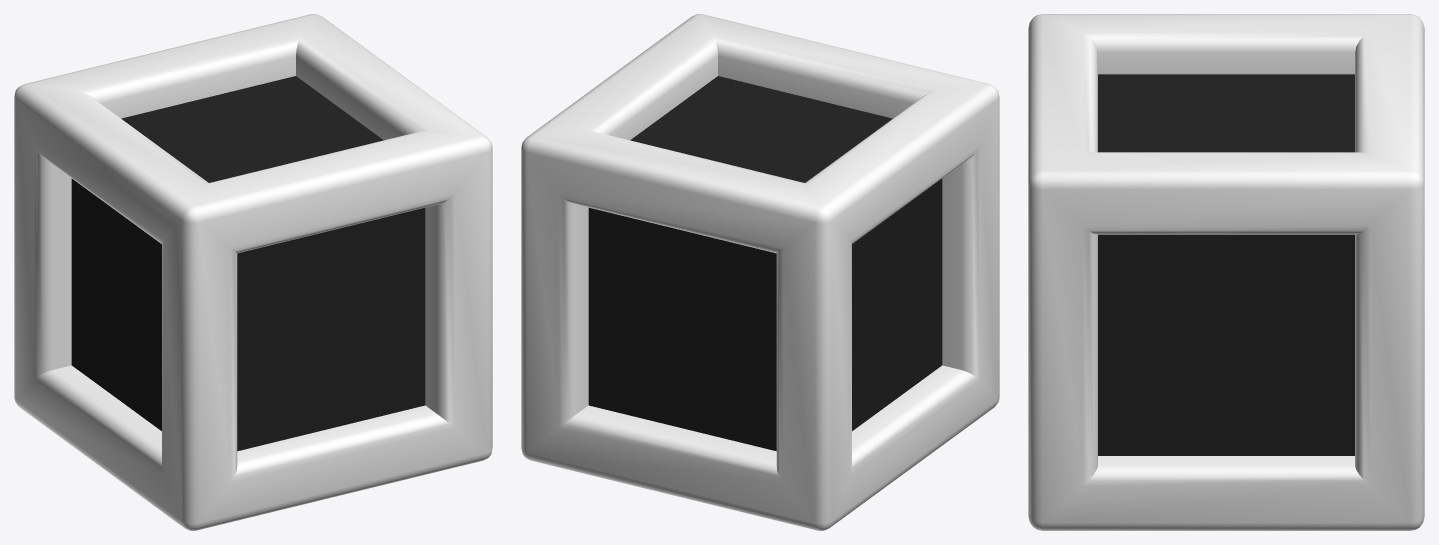
Rendered from white_square_button.gltf.
3 views of the same model, side by side, from view 1: azimuth 30°, elevation 25°; view 2: azimuth 150°, elevation 25°; view 3: azimuth 270°, elevation 25° (orthographic). The views are drawn at different scales.
Visible parts, largest first — view 1: brown_square.009; view 2: brown_square.009; view 3: brown_square.009.
Boxes of the visible parts, left/top/right/bottom form: brown_square.009: left=14, top=14, right=492, bottom=530; brown_square.009: left=521, top=14, right=999, bottom=530; brown_square.009: left=1028, top=14, right=1424, bottom=530.
Bounding box in the file's own units: 1.92 × 1.92 × 1.92.
Materials: 1 (1 with a texture image).
